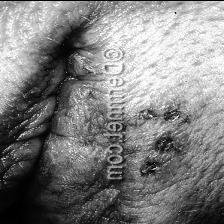Toxin: (132, 97, 184, 180)
